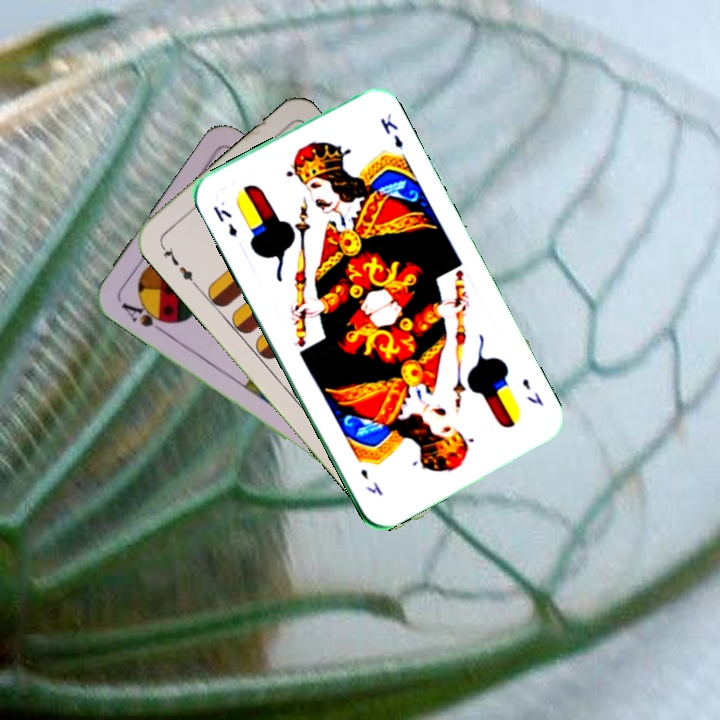E7: (156, 240, 200, 289)
EK: (209, 201, 241, 239), (518, 374, 546, 409)
SA: (117, 296, 174, 337)
